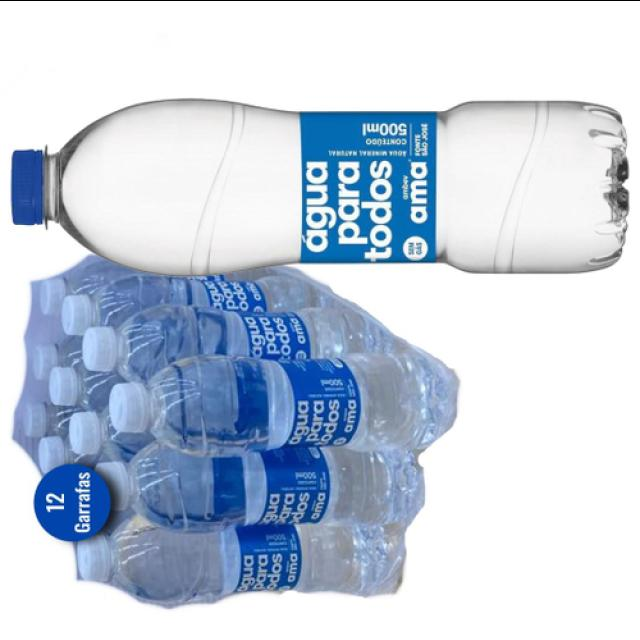bottom: (546, 88, 637, 280)
cap: (3, 131, 67, 248), (110, 370, 160, 441), (75, 529, 120, 588), (54, 291, 110, 335), (96, 460, 142, 510), (58, 405, 104, 451), (81, 323, 129, 367), (26, 335, 61, 384), (48, 358, 81, 408), (30, 275, 71, 313), (29, 439, 67, 476), (15, 404, 61, 432)
